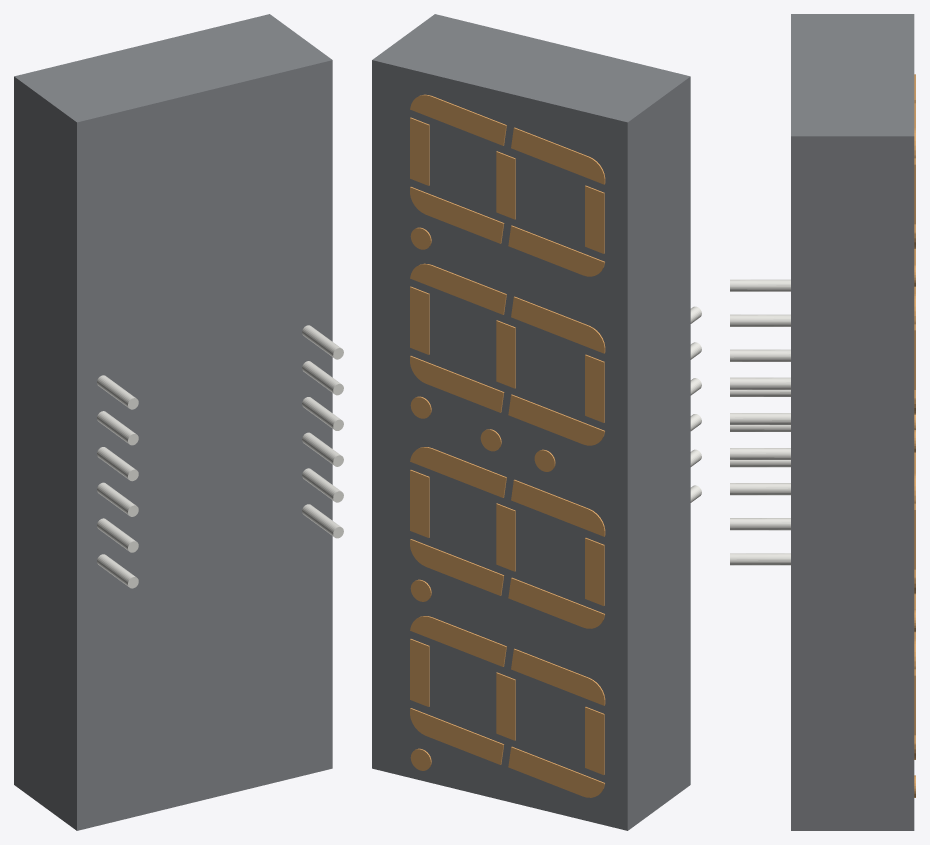
File: CA56-12SEKWA.glb
The picture shows the model from 3 angles, left to right: view 1: azimuth 30°, elevation 25°; view 2: azimuth 150°, elevation 25°; view 3: azimuth 270°, elevation 25°; orthographic projection.
Visible parts, largest first — view 1: Shape_IndexedFaceSet.002, Shape_IndexedFaceSet.025, Shape_IndexedFaceSet.023, Shape_IndexedFaceSet.008, Shape_IndexedFaceSet.010; view 2: Shape_IndexedFaceSet.037, Shape_IndexedFaceSet.025, Shape_IndexedFaceSet.023, Shape_IndexedFaceSet.008, Shape_IndexedFaceSet.010, Shape_IndexedFaceSet.196, Shape_IndexedFaceSet.201, Shape_IndexedFaceSet.203, Shape_IndexedFaceSet.190, Shape_IndexedFaceSet.207, Shape_IndexedFaceSet.208, Shape_IndexedFaceSet.213 (+21 smaller); view 3: Shape_IndexedFaceSet.022, Shape_IndexedFaceSet.004, Shape_IndexedFaceSet.023, Shape_IndexedFaceSet.010, Shape_IndexedFaceSet.011, Shape_IndexedFaceSet.012, Shape_IndexedFaceSet.013, Shape_IndexedFaceSet.016, Shape_IndexedFaceSet.017, Shape_IndexedFaceSet.018, Shape_IndexedFaceSet.021, Shape_IndexedFaceSet.019 (+4 smaller).
Boxes of the visible parts, x1,y1,x2,y2 form: Shape_IndexedFaceSet.002: (77, 64, 332, 826); Shape_IndexedFaceSet.025: (14, 76, 76, 830); Shape_IndexedFaceSet.023: (14, 14, 331, 122); Shape_IndexedFaceSet.008: (61, 142, 76, 810); Shape_IndexedFaceSet.010: (88, 55, 315, 118); Shape_IndexedFaceSet.037: (372, 60, 627, 830); Shape_IndexedFaceSet.025: (627, 77, 690, 830); Shape_IndexedFaceSet.023: (372, 14, 690, 122); Shape_IndexedFaceSet.008: (675, 96, 690, 765); Shape_IndexedFaceSet.010: (446, 18, 673, 80); Shape_IndexedFaceSet.196: (511, 128, 604, 184); Shape_IndexedFaceSet.201: (511, 297, 604, 353); Shape_IndexedFaceSet.203: (410, 264, 505, 314); Shape_IndexedFaceSet.190: (511, 480, 604, 536); Shape_IndexedFaceSet.207: (508, 747, 604, 797); Shape_IndexedFaceSet.208: (511, 649, 604, 705); Shape_IndexedFaceSet.213: (508, 578, 604, 628); Shape_IndexedFaceSet.022: (791, 136, 914, 830); Shape_IndexedFaceSet.004: (791, 156, 821, 811); Shape_IndexedFaceSet.023: (791, 14, 914, 136); Shape_IndexedFaceSet.010: (791, 21, 821, 128); Shape_IndexedFaceSet.011: (730, 314, 790, 326); Shape_IndexedFaceSet.012: (730, 279, 790, 291); Shape_IndexedFaceSet.013: (730, 349, 790, 361); Shape_IndexedFaceSet.016: (730, 553, 790, 565); Shape_IndexedFaceSet.017: (730, 518, 790, 530); Shape_IndexedFaceSet.018: (730, 483, 790, 495); Shape_IndexedFaceSet.021: (730, 377, 790, 389); Shape_IndexedFaceSet.019: (730, 413, 790, 424).
Size of the model in its own units: 7.48 by 19.8 by 4.8.
